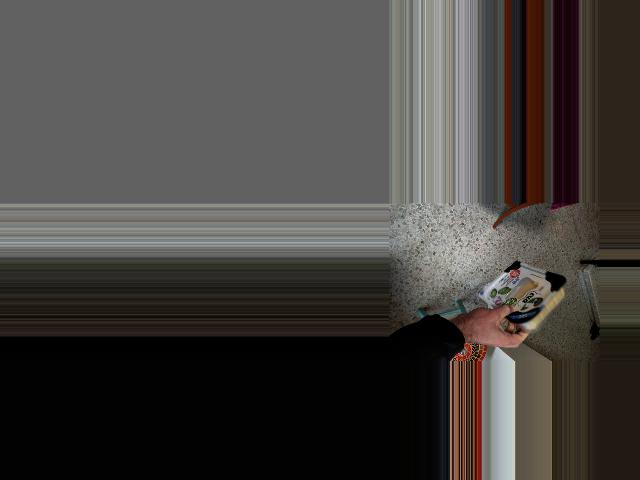cheese: (488, 250, 566, 355)
